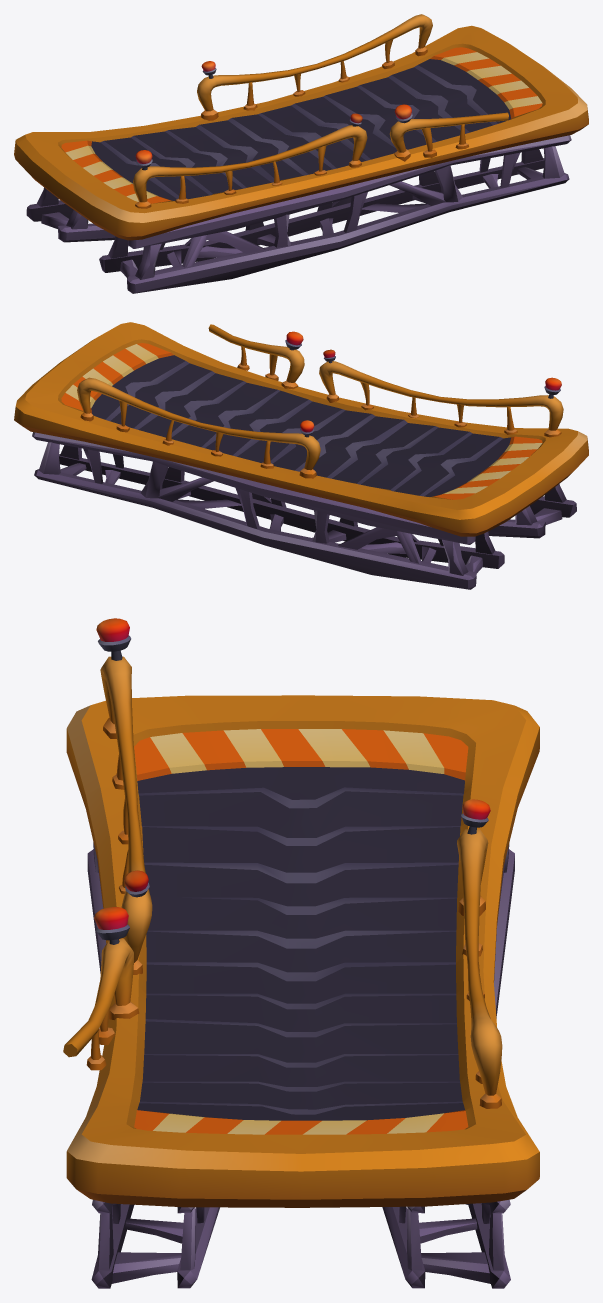
Rendered from SM_Fan _02.fbx.
The picture shows the model from 3 angles, top to bottom: view 1: azimuth 30°, elevation 25°; view 2: azimuth 150°, elevation 25°; view 3: azimuth 270°, elevation 25°; orthographic projection. The views are drawn at different scales.
Visible parts, largest first — view 1: SM_Fan _02; view 2: SM_Fan _02; view 3: SM_Fan _02.
Part boxes in pixels (bbox=[...]): SM_Fan _02: bbox=[14, 14, 588, 293]; SM_Fan _02: bbox=[14, 322, 588, 589]; SM_Fan _02: bbox=[63, 618, 539, 1288].
Size of the model in its own units: 11.73 by 3.51 by 4.98.
